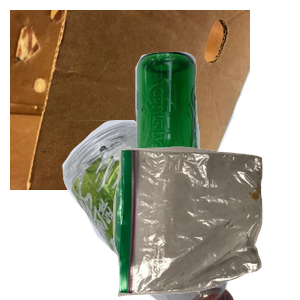cardboard: (10, 10, 250, 190)
glass: (129, 49, 300, 229)
plastic: (25, 120, 252, 300)
trash: (110, 144, 300, 300)
